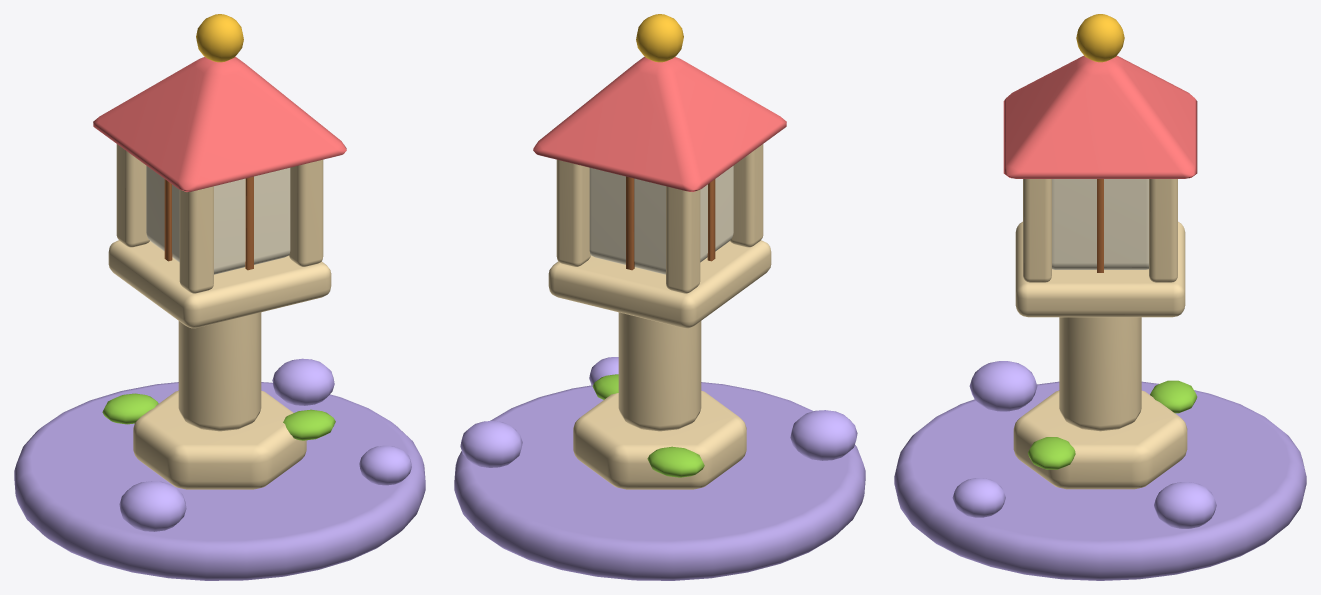
The model's file is DecorLantern.fbx.
The picture shows the model from 3 angles, left to right: view 1: azimuth 30°, elevation 25°; view 2: azimuth 150°, elevation 25°; view 3: azimuth 270°, elevation 25°; orthographic projection.
Visible parts, largest first — view 1: DecorLantern mesh; view 2: DecorLantern mesh; view 3: DecorLantern mesh.
Part boxes in pixels (x1,y1,x2,y2): DecorLantern mesh: [14, 14, 425, 580]; DecorLantern mesh: [454, 14, 865, 580]; DecorLantern mesh: [894, 14, 1306, 580].
Size of the model in its own units: 0.34 by 0.44 by 0.34.
